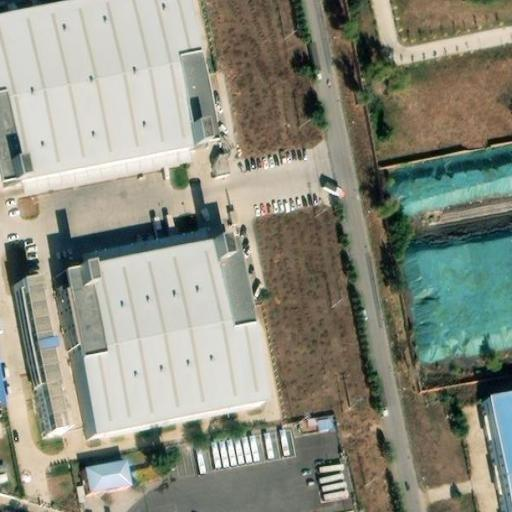building: (57, 240, 262, 441), (9, 277, 58, 432), (476, 390, 512, 512), (85, 460, 131, 494), (311, 410, 336, 431)
